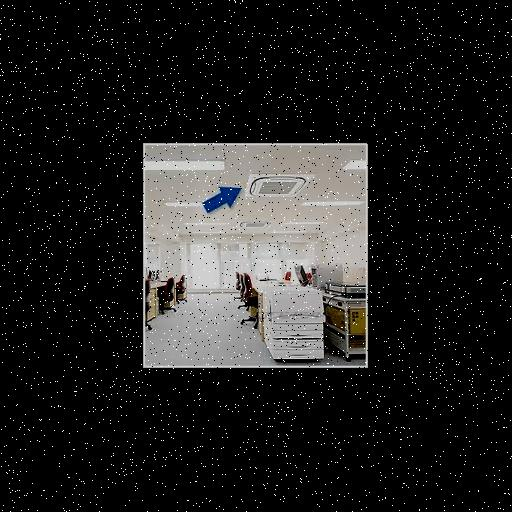4-way-ac: (244, 174, 316, 198), (240, 221, 272, 231)
